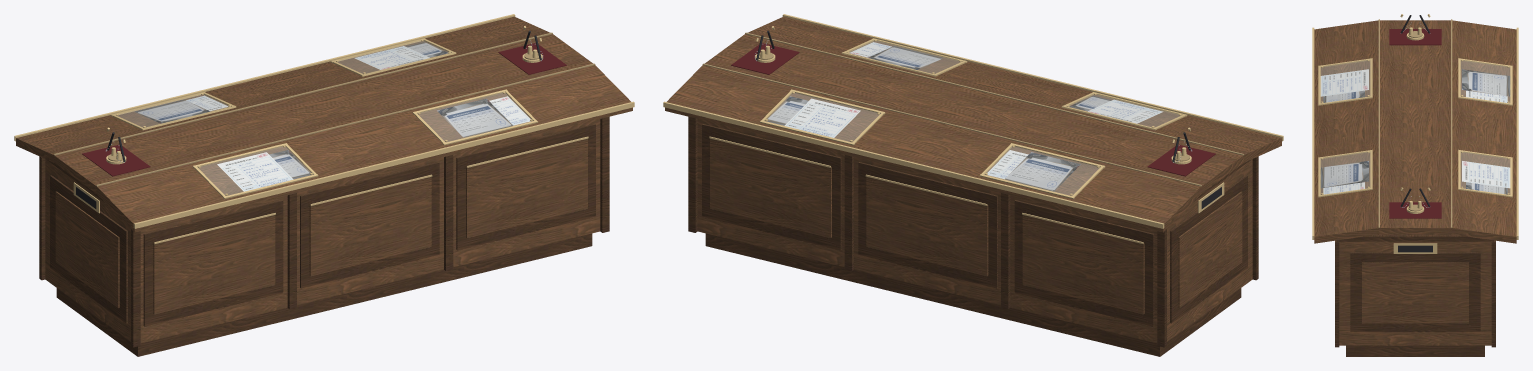
Rendered from cs_form_desk.glb.
3 views of the same model, side by side, from view 1: azimuth 30°, elevation 25°; view 2: azimuth 150°, elevation 25°; view 3: azimuth 270°, elevation 25° (orthographic). The views are drawn at different scales.
Parts seen in each view (by area): view 1: cs_form_desk; view 2: cs_form_desk; view 3: cs_form_desk.
Boxes of the visible parts, bbox=[...] form: cs_form_desk: bbox=[14, 14, 634, 356]; cs_form_desk: bbox=[663, 14, 1283, 356]; cs_form_desk: bbox=[1312, 14, 1518, 356].
Size of the model in its own units: 3.41 by 1.23 by 1.43.
10 materials, 4 textured.
